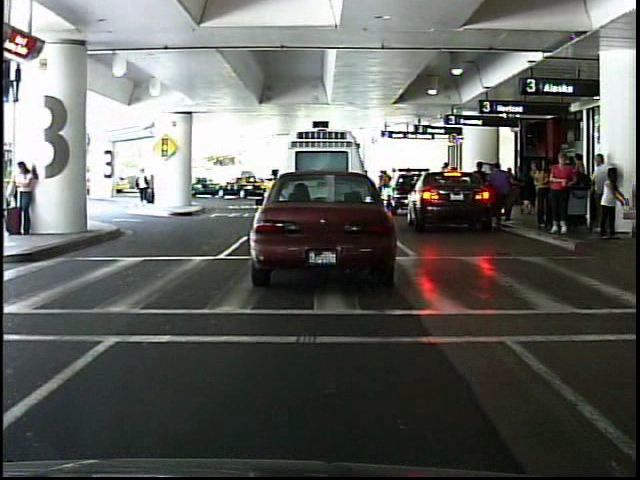person: (547, 149, 578, 239), (13, 158, 39, 237), (130, 162, 159, 208)
